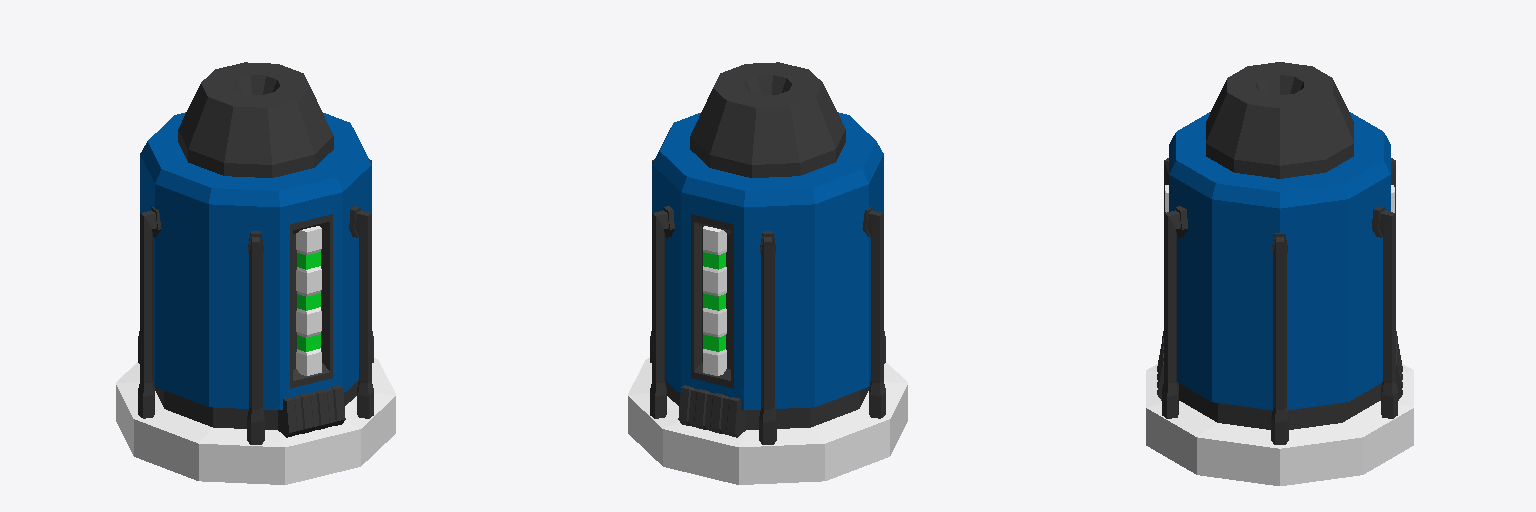
File: Battery.obj
3 views of the same model, side by side, from view 1: azimuth 30°, elevation 25°; view 2: azimuth 150°, elevation 25°; view 3: azimuth 270°, elevation 25° (orthographic).
Size of the model in its own units: 0.9544 by 1.27 by 0.9077.